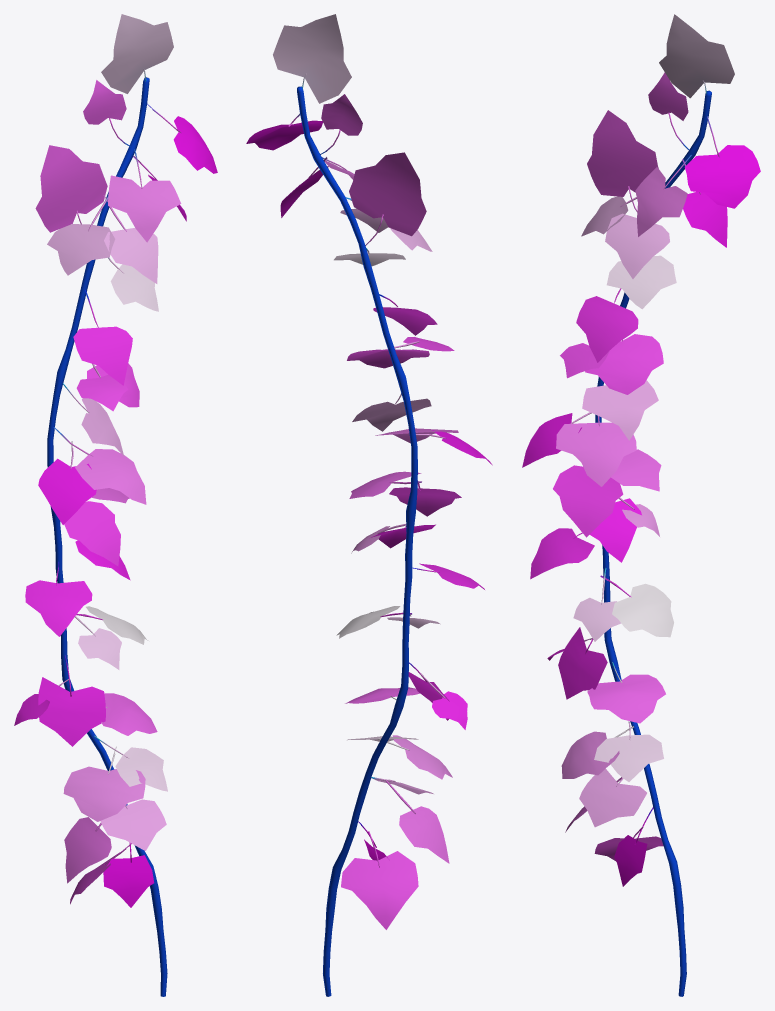
Rendered from English_Ivy_xfcnebhqx_Mid_xfcnebhqx_VarC_LOD0.fbx.
3 views of the same model, side by side, from view 1: azimuth 30°, elevation 25°; view 2: azimuth 150°, elevation 25°; view 3: azimuth 330°, elevation 25° (orthographic). The views are drawn at different scales.
Visible parts, largest first — view 1: _zcwx_VarC_LOD1; view 2: _zcwx_VarC_LOD1; view 3: _zcwx_VarC_LOD1.
Part boxes in pixels (x1,y1,x2,y2): _zcwx_VarC_LOD1: (14, 14, 217, 996); _zcwx_VarC_LOD1: (246, 14, 492, 996); _zcwx_VarC_LOD1: (522, 14, 760, 996).
Size of the model in its own units: 16.24 by 75.75 by 8.87.
